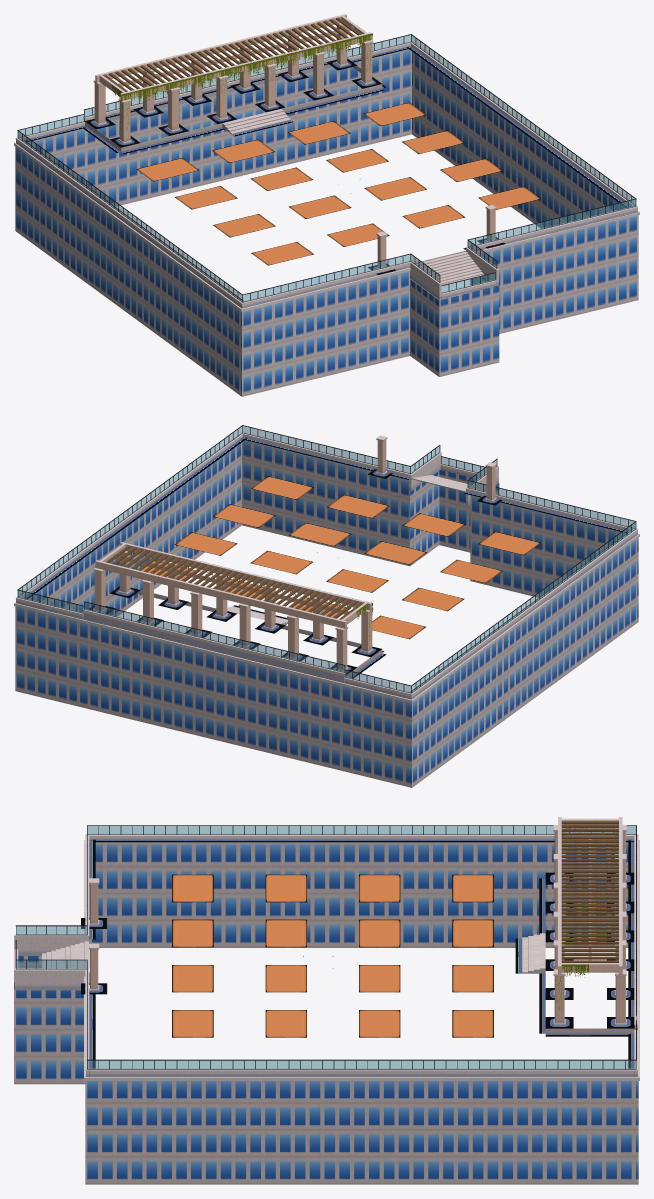
The model's file is Rooftop.fbx.
The picture shows the model from 3 angles, top to bottom: view 1: azimuth 30°, elevation 25°; view 2: azimuth 150°, elevation 25°; view 3: azimuth 270°, elevation 25°; orthographic projection. The views are drawn at different scales.
Parts seen in each view (by area): view 1: TowerTop, TableGlow, Pergola, Parapet, RailingGlass, FloorShade, RailingFrame, PergolaSlats, Steps, Vines; view 2: TowerTop, TableGlow, Parapet, Pergola, RailingGlass, RailingFrame, FloorShade, PergolaSlats, Steps; view 3: TowerTop, TableGlow, Parapet, RailingGlass, PergolaSlats, FloorShade, Pergola, RailingFrame, Steps.
Boxes of the visible parts, x1=… form: TowerTop: x1=14, y1=49, x2=639, y2=396; TableGlow: x1=136, y1=102, x2=540, y2=265; Pergola: x1=93, y1=14, x2=496, y2=268; Parapet: x1=15, y1=41, x2=637, y2=308; RailingGlass: x1=18, y1=35, x2=635, y2=301; FloorShade: x1=24, y1=46, x2=629, y2=301; RailingFrame: x1=17, y1=34, x2=636, y2=302; PergolaSlats: x1=103, y1=17, x2=361, y2=91; Steps: x1=85, y1=66, x2=483, y2=285; Vines: x1=111, y1=27, x2=374, y2=130; TowerTop: x1=14, y1=440, x2=639, y2=787; TableGlow: x1=141, y1=476, x2=540, y2=639; Parapet: x1=16, y1=432, x2=638, y2=699; Pergola: x1=93, y1=435, x2=496, y2=671; RailingGlass: x1=18, y1=426, x2=635, y2=692; RailingFrame: x1=17, y1=425, x2=636, y2=693; FloorShade: x1=24, y1=437, x2=629, y2=692; PergolaSlats: x1=106, y1=545, x2=363, y2=619; Steps: x1=105, y1=475, x2=468, y2=677; TowerTop: x1=14, y1=840, x2=639, y2=1184; TableGlow: x1=172, y1=874, x2=493, y2=1037; Parapet: x1=14, y1=834, x2=638, y2=1076; RailingGlass: x1=16, y1=826, x2=636, y2=1069; PergolaSlats: x1=561, y1=821, x2=618, y2=962; FloorShade: x1=81, y1=839, x2=634, y2=1068; Pergola: x1=89, y1=817, x2=626, y2=1025; RailingFrame: x1=15, y1=825, x2=636, y2=1069; Steps: x1=42, y1=873, x2=634, y2=1033.
Size of the model in its own units: 190 by 65 by 211.
Materials: 5 (3 with a texture image).
